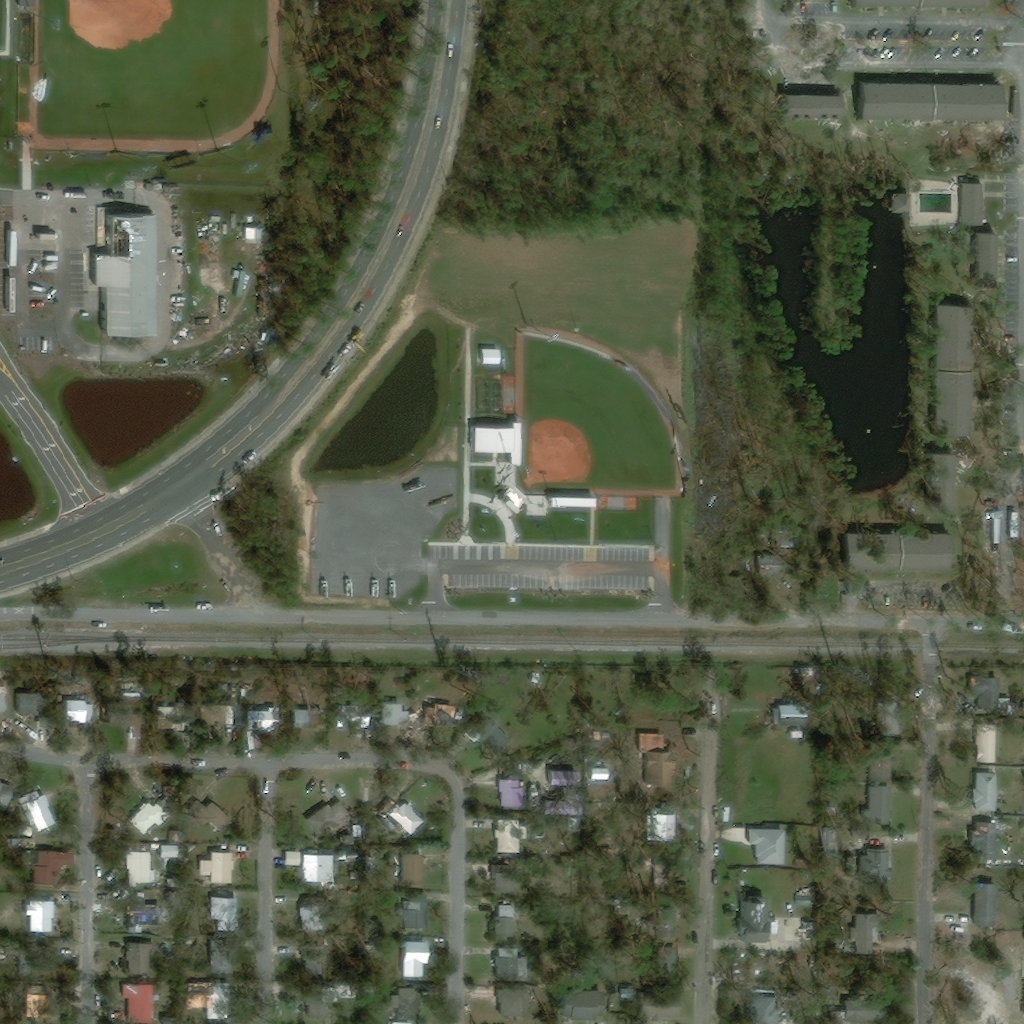major_damage: (92, 213, 157, 337), (797, 884, 817, 895)
minor_damage: (932, 303, 974, 438), (922, 452, 956, 515), (184, 981, 227, 1020), (736, 898, 768, 943), (121, 984, 155, 1023), (127, 900, 162, 935), (637, 993, 677, 1021), (971, 820, 1003, 854), (284, 854, 325, 880), (968, 677, 999, 711), (498, 769, 523, 810), (972, 884, 995, 927), (841, 1001, 878, 1023), (846, 926, 873, 956), (763, 556, 794, 580), (651, 946, 676, 967), (245, 709, 275, 724), (171, 713, 191, 733)
no_damage: (857, 81, 1004, 122), (852, 533, 954, 569), (463, 712, 514, 764), (306, 801, 350, 838), (951, 177, 984, 226), (746, 829, 787, 868), (210, 852, 251, 890), (791, 94, 844, 123), (26, 789, 59, 834), (30, 851, 72, 886), (15, 694, 58, 728), (564, 991, 608, 1022), (125, 852, 161, 889), (387, 802, 424, 837), (862, 742, 891, 786), (129, 803, 164, 836), (497, 987, 531, 1020), (483, 947, 519, 978), (849, 0, 987, 8), (970, 773, 998, 812), (389, 987, 419, 1023), (402, 942, 430, 980), (124, 943, 155, 977), (305, 990, 338, 1021), (495, 819, 527, 849), (403, 895, 429, 931), (4, 945, 37, 973), (863, 848, 892, 879), (776, 704, 808, 732), (375, 703, 409, 729), (334, 706, 369, 731), (975, 724, 996, 765), (867, 787, 891, 821), (489, 905, 517, 934), (978, 232, 1000, 268), (745, 999, 777, 1023), (23, 900, 54, 924), (875, 708, 900, 737), (297, 898, 324, 924), (402, 855, 423, 888), (491, 865, 514, 894), (149, 845, 180, 862), (471, 985, 495, 1002), (655, 909, 671, 934), (209, 957, 230, 976), (891, 194, 910, 214), (638, 734, 663, 749), (0, 673, 8, 705), (244, 227, 262, 241), (666, 733, 684, 747), (127, 726, 142, 742), (161, 186, 182, 197), (618, 991, 634, 1003), (16, 0, 35, 10), (821, 829, 835, 838), (160, 1016, 174, 1023), (104, 907, 118, 914)
